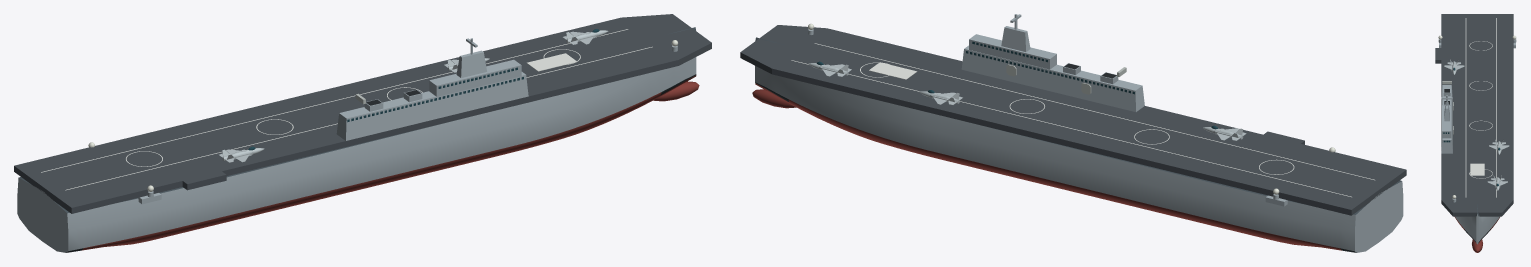
File: jmsdf_ddh_izumo.glb
3 views of the same model, side by side, from view 1: azimuth 30°, elevation 25°; view 2: azimuth 150°, elevation 25°; view 3: azimuth 270°, elevation 25° (orthographic). The views are drawn at different scales.
Visible parts, largest first — view 1: naval_paint, flight_deck, antifouling, marking_white, airframe_light, glazing, deck_non_skid; view 2: flight_deck, naval_paint, antifouling, marking_white, airframe_light, glazing, deck_non_skid; view 3: flight_deck, naval_paint, marking_white, airframe_light, antifouling.
Boxes of the visible parts, x1,y1,x2,y2 form: naval_paint: (17, 38, 696, 252); flight_deck: (14, 14, 711, 213); antifouling: (82, 75, 699, 250); marking_white: (41, 29, 652, 190); airframe_light: (219, 30, 608, 162); glazing: (248, 29, 599, 150); deck_non_skid: (19, 27, 695, 213); flight_deck: (740, 25, 1406, 215); naval_paint: (755, 14, 1403, 252); antifouling: (752, 83, 1341, 250); marking_white: (791, 43, 1375, 197); airframe_light: (808, 63, 1246, 140); glazing: (816, 41, 1217, 129); deck_non_skid: (755, 37, 1401, 214); flight_deck: (1435, 14, 1513, 216); naval_paint: (1438, 39, 1516, 244); marking_white: (1465, 18, 1496, 197); airframe_light: (1444, 59, 1509, 190); antifouling: (1454, 216, 1499, 252).
Size of the model in its own units: 10 by 1.94 by 1.7.
